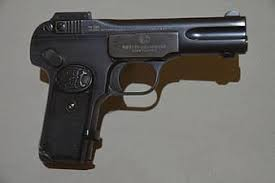gun: (27, 9, 254, 172)
